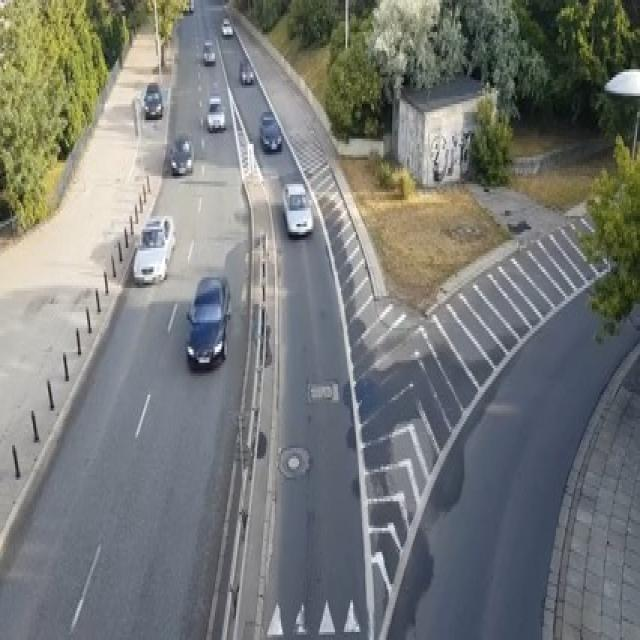car: (185, 275, 231, 368), (132, 213, 176, 283), (281, 182, 312, 238), (258, 109, 281, 152), (170, 134, 194, 174), (206, 96, 225, 131), (143, 83, 162, 117), (239, 58, 254, 82), (203, 40, 215, 64), (221, 16, 233, 35)
